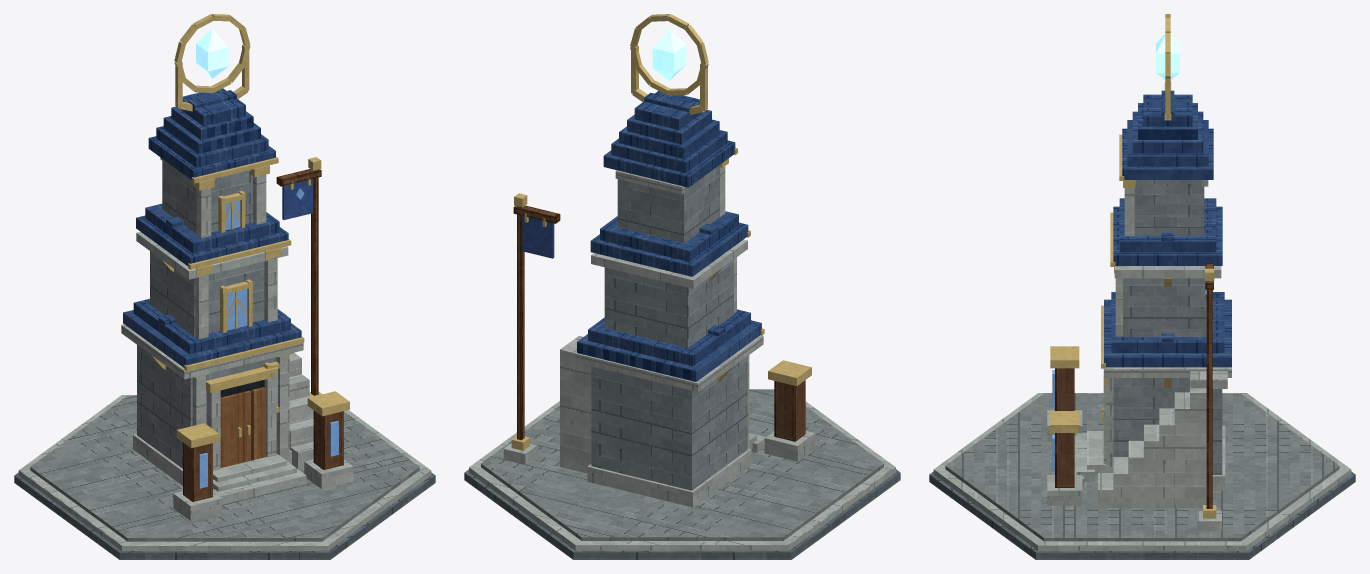
Rendered from arcane_ritual_hex_v1.glb.
3 views of the same model, side by side, from view 1: azimuth 30°, elevation 25°; view 2: azimuth 150°, elevation 25°; view 3: azimuth 270°, elevation 25° (orthographic). The views are drawn at different scales.
Visible parts, largest first — view 1: Arcane_Ritual_Hex_V1_Foundation, Arcane_Ritual_Hex_V1_Roofs, Arcane_Ritual_Hex_V1_Hall, Arcane_Ritual_Hex_V1_Details, Arcane_Ritual_Hex_V1_Training, Arcane_Ritual_Hex_V1_Courtyard, Arcane_Ritual_Hex_V1_Focus, Arcane_Ritual_Hex_V1_Faction; view 2: Arcane_Ritual_Hex_V1_Foundation, Arcane_Ritual_Hex_V1_Hall, Arcane_Ritual_Hex_V1_Roofs, Arcane_Ritual_Hex_V1_Faction, Arcane_Ritual_Hex_V1_Courtyard, Arcane_Ritual_Hex_V1_Focus, Arcane_Ritual_Hex_V1_Training, Arcane_Ritual_Hex_V1_Details; view 3: Arcane_Ritual_Hex_V1_Foundation, Arcane_Ritual_Hex_V1_Roofs, Arcane_Ritual_Hex_V1_Hall, Arcane_Ritual_Hex_V1_Courtyard, Arcane_Ritual_Hex_V1_Training, Arcane_Ritual_Hex_V1_Faction, Arcane_Ritual_Hex_V1_Details, Arcane_Ritual_Hex_V1_Focus.
Boxes of the visible parts, x1,y1,x2,y2 form: Arcane_Ritual_Hex_V1_Foundation: (14, 395, 435, 559); Arcane_Ritual_Hex_V1_Roofs: (121, 88, 304, 379); Arcane_Ritual_Hex_V1_Hall: (133, 160, 291, 485); Arcane_Ritual_Hex_V1_Details: (152, 157, 293, 456); Arcane_Ritual_Hex_V1_Training: (173, 391, 353, 520); Arcane_Ritual_Hex_V1_Courtyard: (213, 309, 313, 504); Arcane_Ritual_Hex_V1_Focus: (174, 14, 250, 111); Arcane_Ritual_Hex_V1_Faction: (276, 157, 321, 396); Arcane_Ritual_Hex_V1_Foundation: (464, 389, 900, 559); Arcane_Ritual_Hex_V1_Hall: (587, 165, 751, 507); Arcane_Ritual_Hex_V1_Roofs: (575, 91, 764, 391); Arcane_Ritual_Hex_V1_Faction: (503, 193, 560, 464); Arcane_Ritual_Hex_V1_Courtyard: (560, 336, 765, 473); Arcane_Ritual_Hex_V1_Focus: (630, 14, 708, 114); Arcane_Ritual_Hex_V1_Training: (764, 360, 815, 461); Arcane_Ritual_Hex_V1_Details: (603, 158, 749, 448); Arcane_Ritual_Hex_V1_Foundation: (929, 393, 1355, 559); Arcane_Ritual_Hex_V1_Roofs: (1101, 90, 1231, 377); Arcane_Ritual_Hex_V1_Hall: (1103, 180, 1225, 490); Arcane_Ritual_Hex_V1_Courtyard: (1074, 371, 1227, 507); Arcane_Ritual_Hex_V1_Training: (1047, 346, 1082, 505); Arcane_Ritual_Hex_V1_Faction: (1197, 263, 1221, 531); Arcane_Ritual_Hex_V1_Details: (1102, 180, 1208, 472); Arcane_Ritual_Hex_V1_Focus: (1156, 14, 1179, 120).
Bounding box in the file's own units: 1.59 × 2.21 × 1.84.
1 material, 1 textured.
